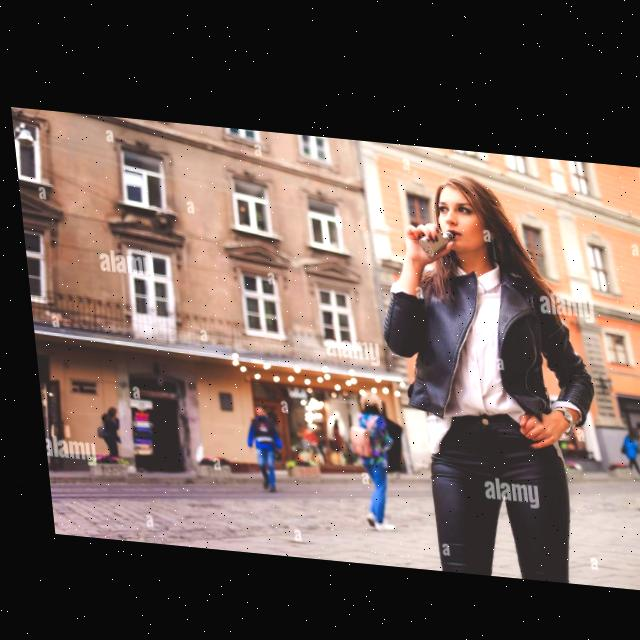vape: (414, 218, 453, 251)
